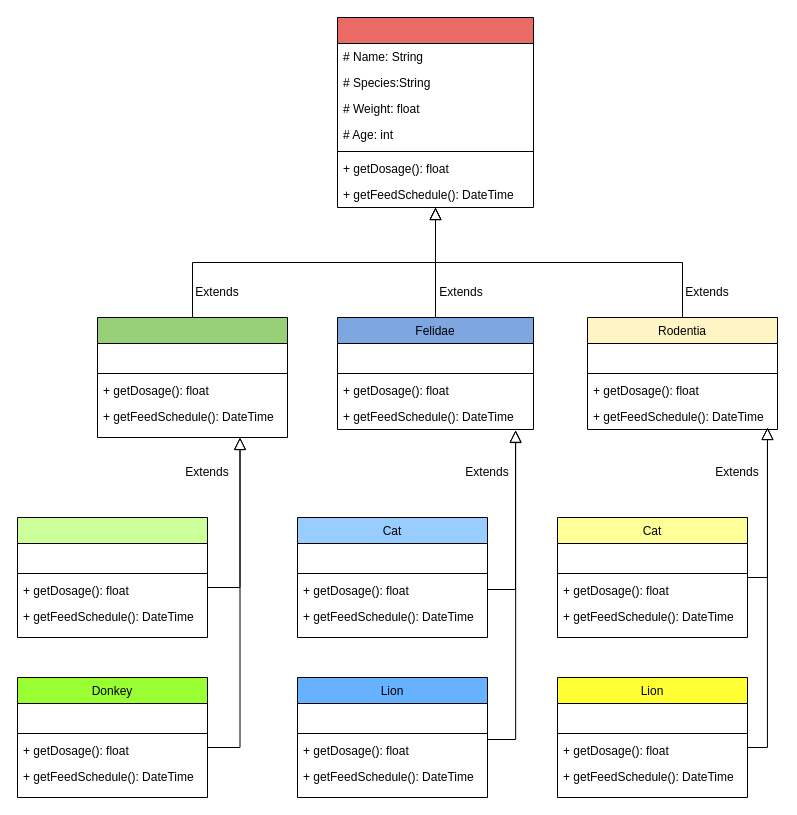
The diagram is 797 pixels wide and 815 high, and some of its shapes have lost their labels. The shapes that lost their labels are listed below. From the top down, each one's box as (x1, y1, x2, y2) in pixels, then its label:
(336, 16, 534, 208): Animal
(96, 316, 288, 438): Equidae
(16, 516, 208, 638): Horse
